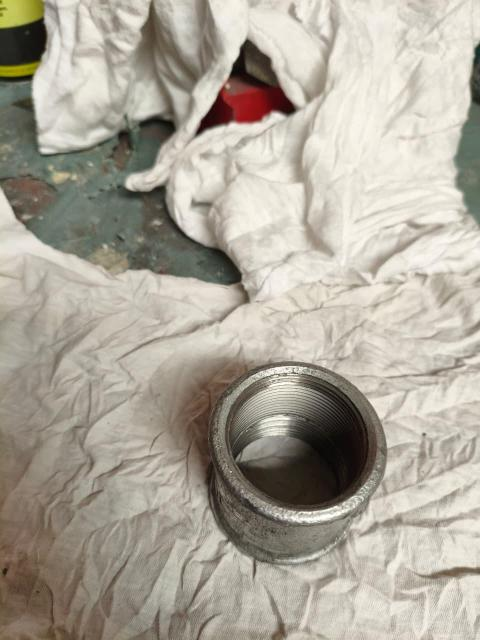Metal: (207, 365, 388, 560)
